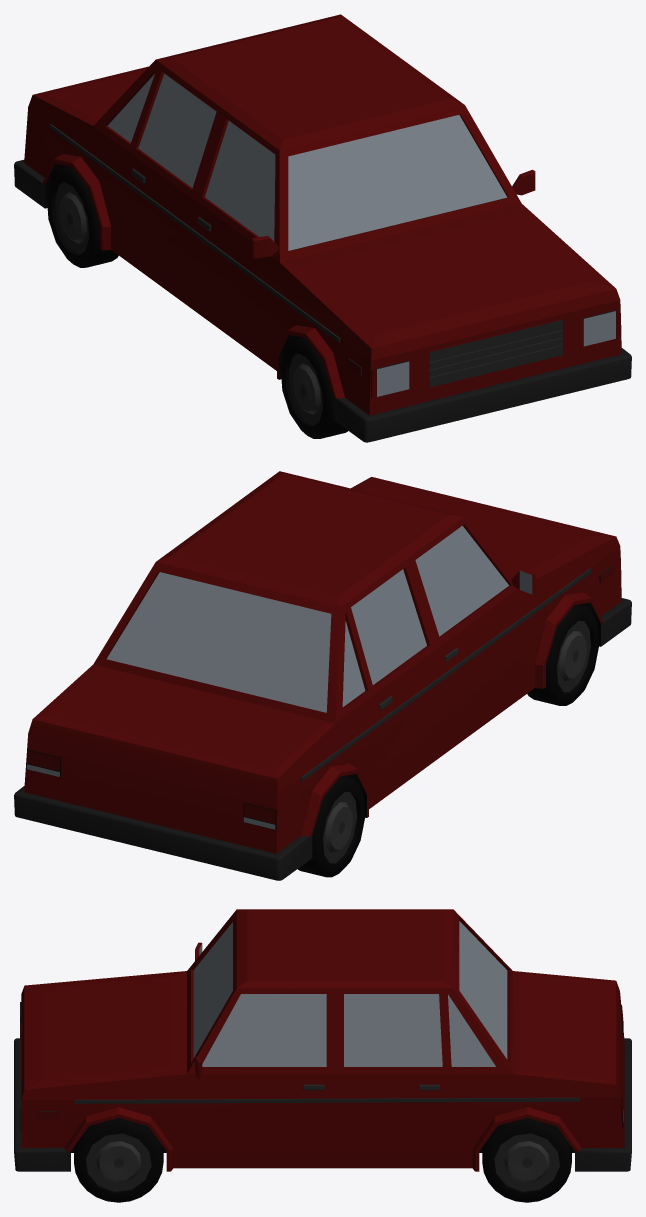
Rendered from Sedan_Red.fbx.
3 views of the same model, one above another, from view 1: azimuth 30°, elevation 25°; view 2: azimuth 150°, elevation 25°; view 3: azimuth 270°, elevation 25° (orthographic). The views are drawn at different scales.
Visible parts, largest first — view 1: Sedan_Red; view 2: Sedan_Red; view 3: Sedan_Red.
Boxes of the visible parts, x1,y1,x2,y2 form: Sedan_Red: (14, 14, 631, 442); Sedan_Red: (14, 471, 631, 880); Sedan_Red: (14, 909, 631, 1202).
Bounding box in the file's own units: 190 × 148 × 413.
